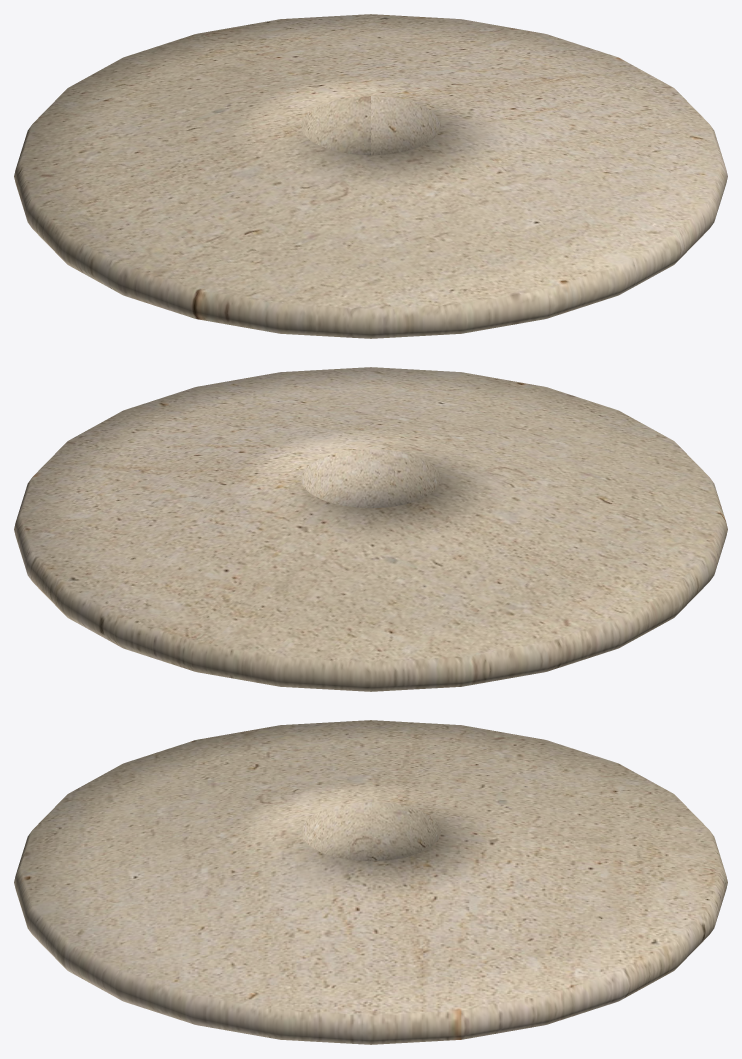
Rendered from LUN.fbx.
3 renders of one model, top to bottom at view 1: azimuth 30°, elevation 25°; view 2: azimuth 150°, elevation 25°; view 3: azimuth 270°, elevation 25°, orthographic.
Visible parts, largest first — view 1: Spindle001; view 2: Spindle001; view 3: Spindle001.
Part boxes in pixels (x1=…): Spindle001: x1=14, y1=14, x2=727, y2=338; Spindle001: x1=14, y1=367, x2=727, y2=691; Spindle001: x1=14, y1=720, x2=727, y2=1044.
Size of the model in its own units: 58.86 by 9.24 by 58.86.
